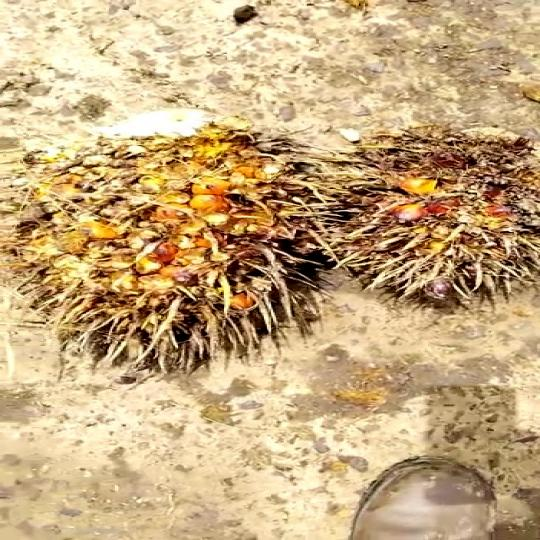terlalu masak: (11, 116, 312, 372), (308, 116, 540, 306)
